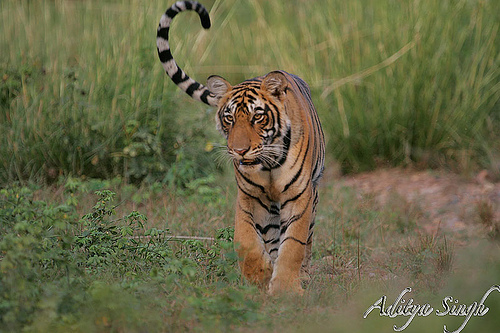Tigre: (146, 7, 345, 306)
